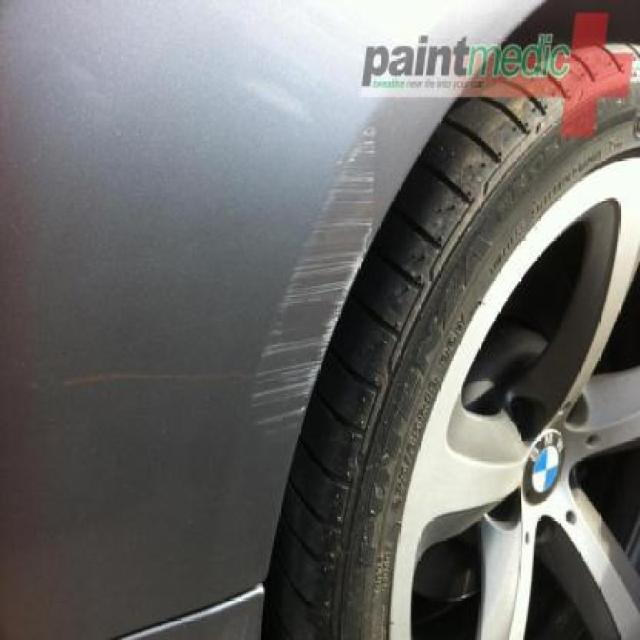scratch: (244, 111, 394, 457), (18, 368, 250, 400)
